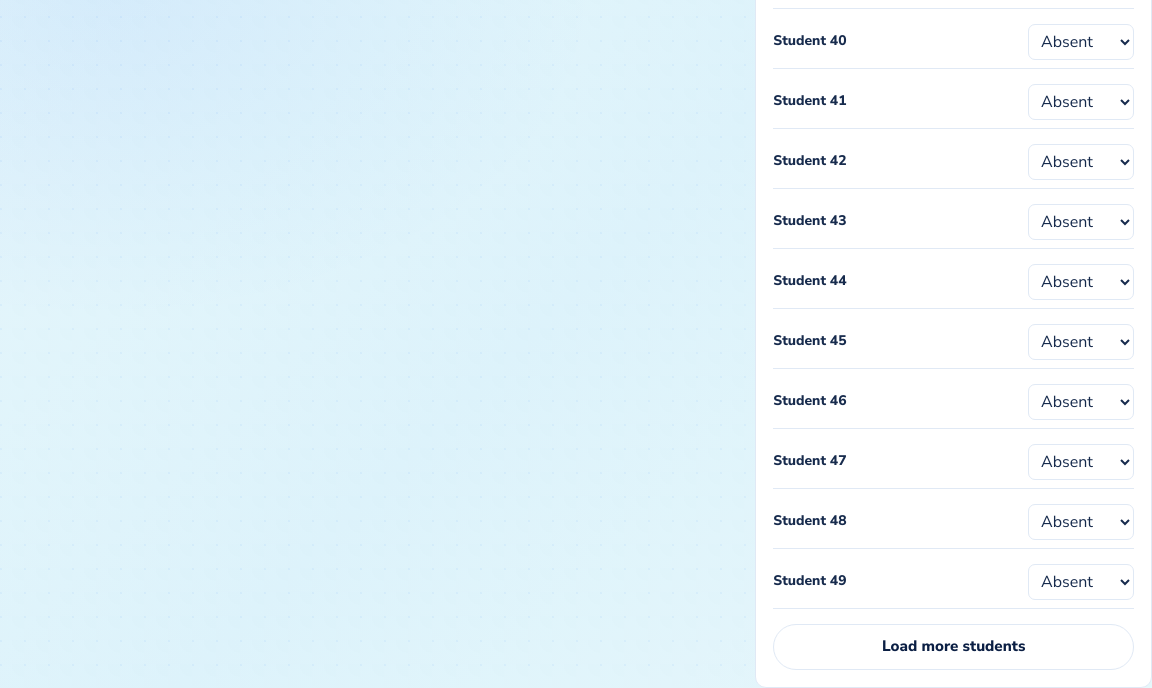
Test: Classrooms › loads the next attendance page for teachers
(page scrolled)
What coordinates should you click on to do the following:
click the button "Load more students"
I would click on:
 (954, 647)
Its box is [773,624,1134,670].
(page scrolled)
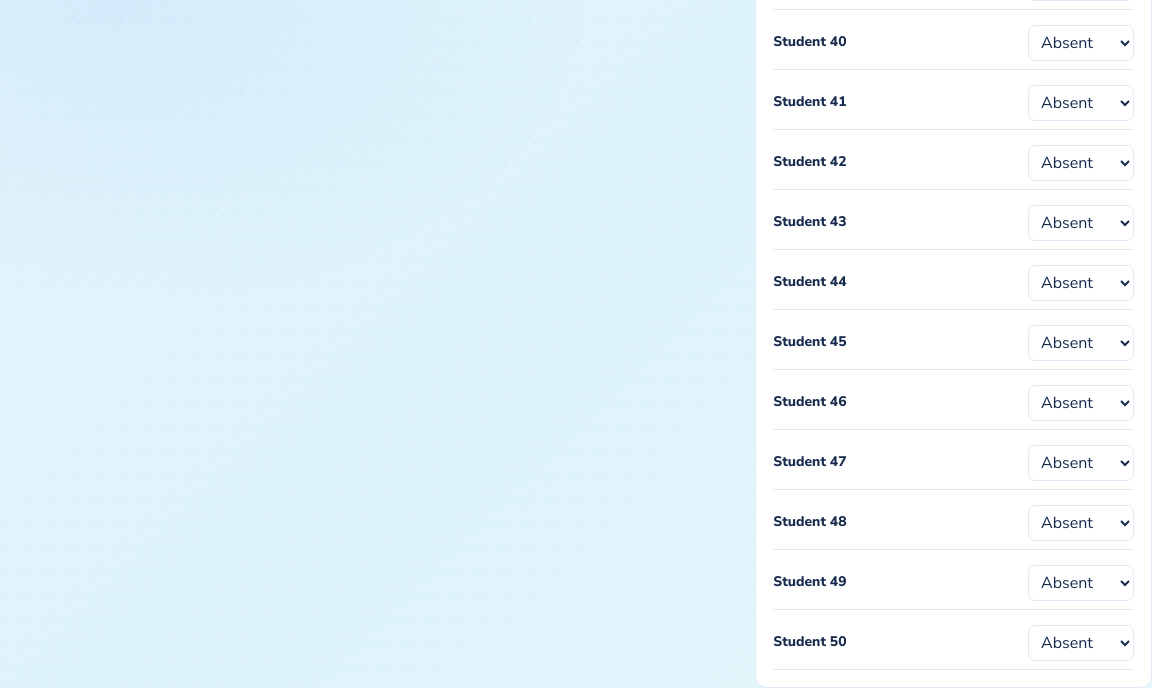
Expected: the text "Student 50" is shown, [773,632,847,652]
